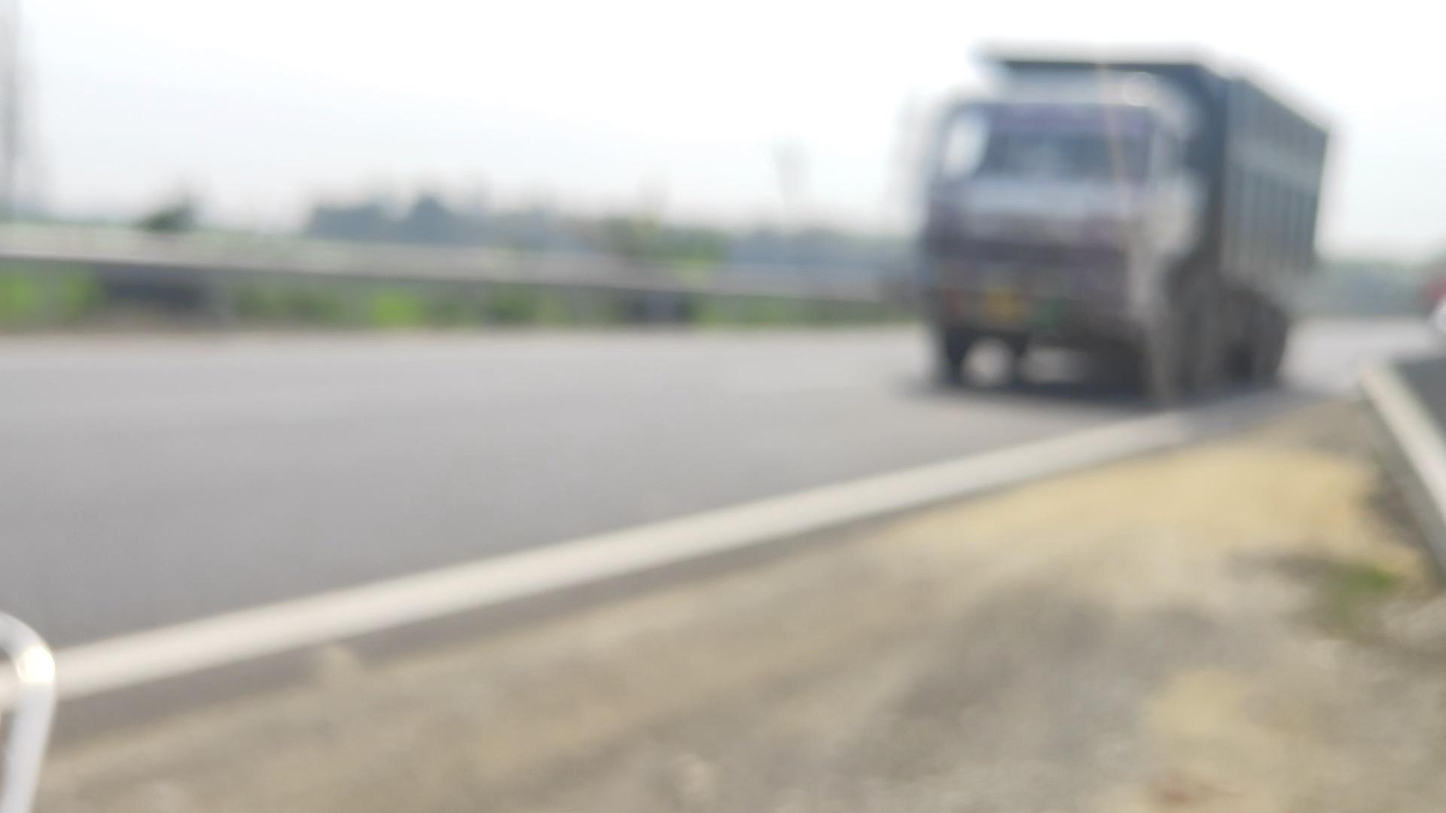truck: (917, 51, 1332, 408)
